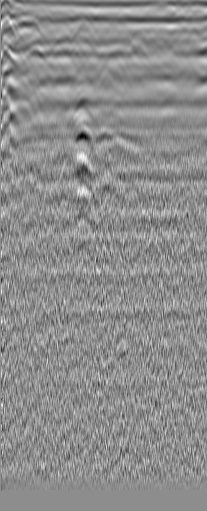오수: (25, 42, 45, 62)
우수: (171, 24, 191, 44)
